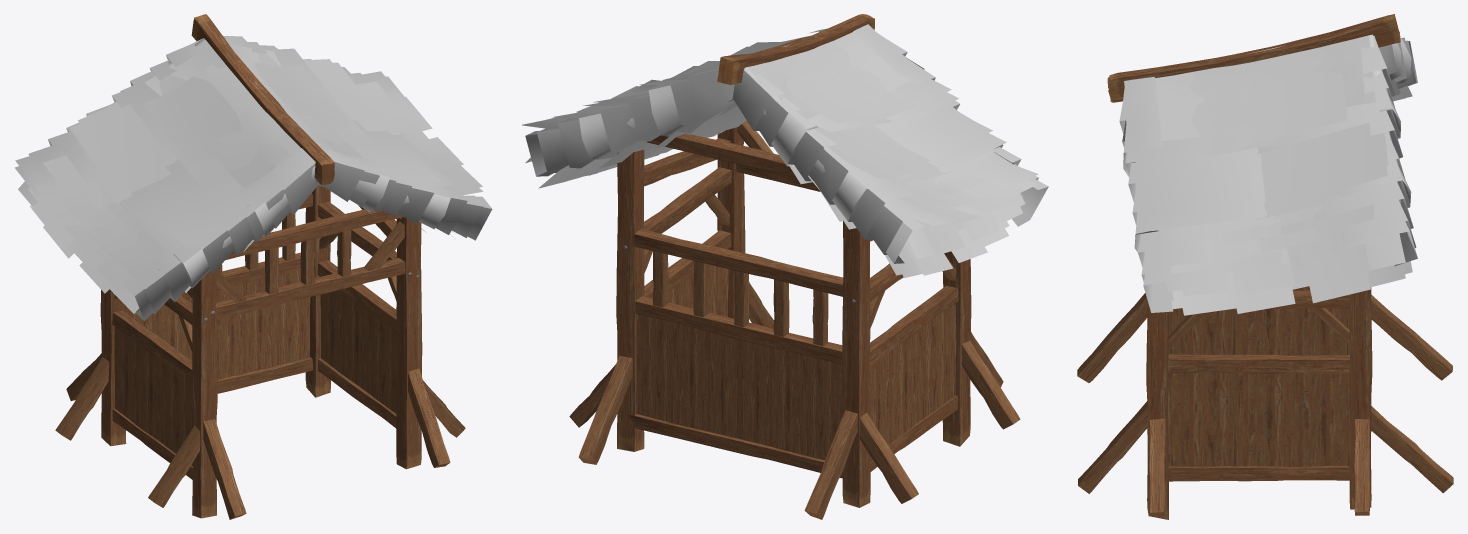
The model's file is SM_Farm_Shed_03.fbx.
The picture shows the model from 3 angles, left to right: view 1: azimuth 30°, elevation 25°; view 2: azimuth 150°, elevation 25°; view 3: azimuth 270°, elevation 25°; orthographic projection. The views are drawn at different scales.
Visible parts, largest first — view 1: SM_Farm_Shed_03_LOD0; view 2: SM_Farm_Shed_03_LOD0; view 3: SM_Farm_Shed_03_LOD0.
Boxes of the visible parts, x1,y1,x2,y2 form: SM_Farm_Shed_03_LOD0: [14, 14, 492, 519]; SM_Farm_Shed_03_LOD0: [522, 14, 1048, 519]; SM_Farm_Shed_03_LOD0: [1077, 14, 1453, 519].
Size of what is drawn, in the model's own units: 476 by 478 by 368.
